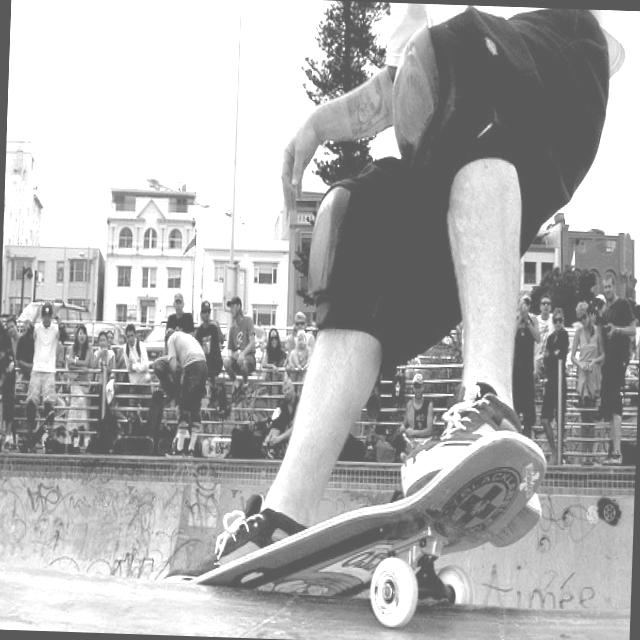Vehicle: (17, 302, 167, 362), (252, 326, 270, 369), (564, 327, 576, 364), (634, 326, 640, 356)
